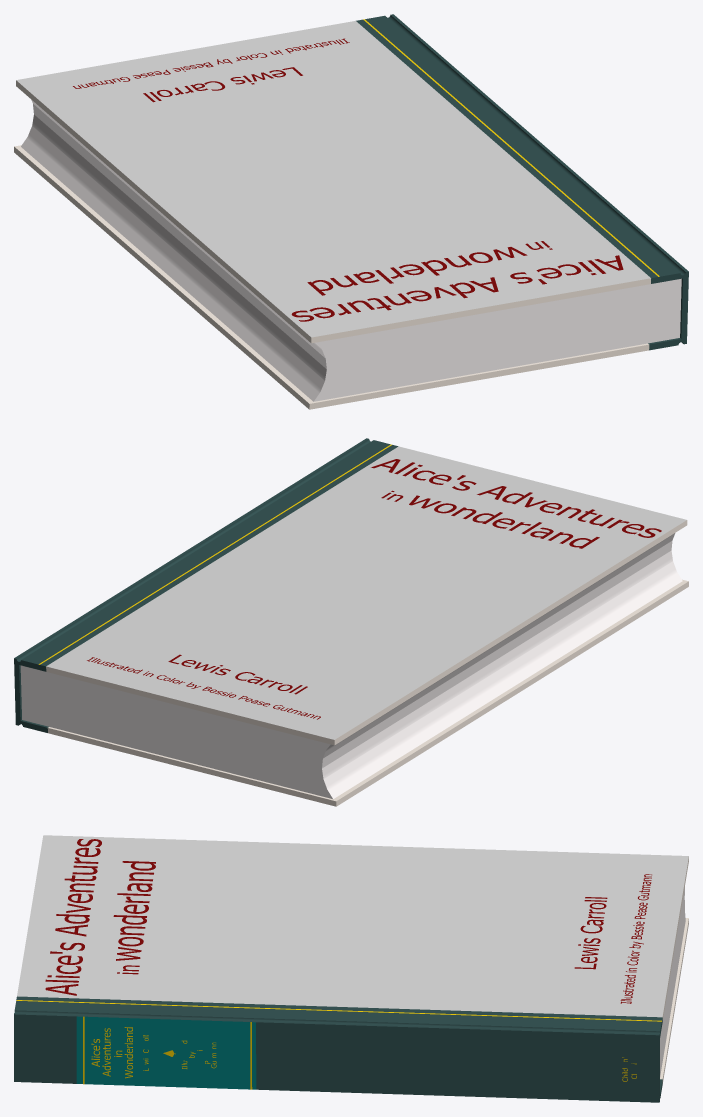
3 views of the same model, one above another, from view 1: azimuth 30°, elevation 25°; view 2: azimuth 150°, elevation 25°; view 3: azimuth 270°, elevation 25° (orthographic). The views are drawn at different scales.
Visible parts, largest first — view 1: SketchUp (×6); view 2: SketchUp (×6); view 3: SketchUp (×7).
Part boxes in pixels (x1,y1,x2,y2): SketchUp (×6): (14, 14, 688, 409); SketchUp (×6): (14, 438, 688, 806); SketchUp (×7): (14, 835, 688, 1102).
Size of the model in its own units: 10.02 by 15.08 by 1.97.
